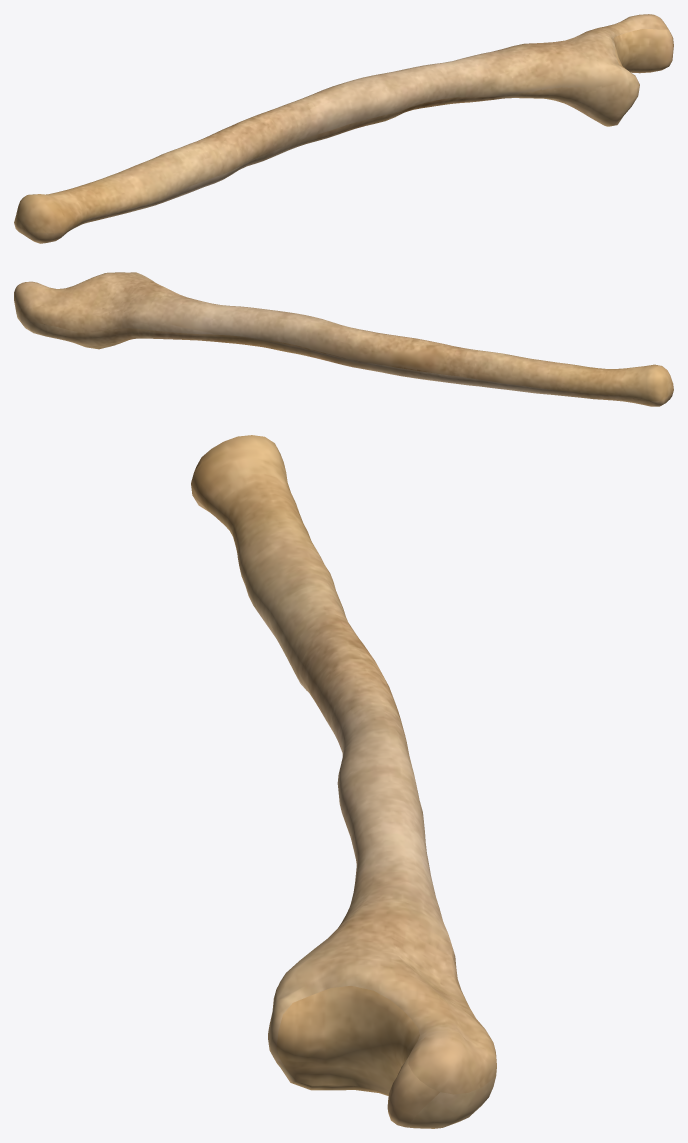
File: medium_bone_1.glb
3 views of the same model, one above another, from view 1: azimuth 30°, elevation 25°; view 2: azimuth 150°, elevation 25°; view 3: azimuth 270°, elevation 25° (orthographic). The views are drawn at different scales.
Parts seen in each view (by area): view 1: Hueso medio1; view 2: Hueso medio1; view 3: Hueso medio1.
Boxes of the visible parts, <box> form: Hueso medio1: <box>14,14,673,243</box>; Hueso medio1: <box>14,272,673,406</box>; Hueso medio1: <box>191,435,496,1128</box>.
Size of the model in its own units: 1.11 by 0.1362 by 0.2427.
1 material, 1 textured.
